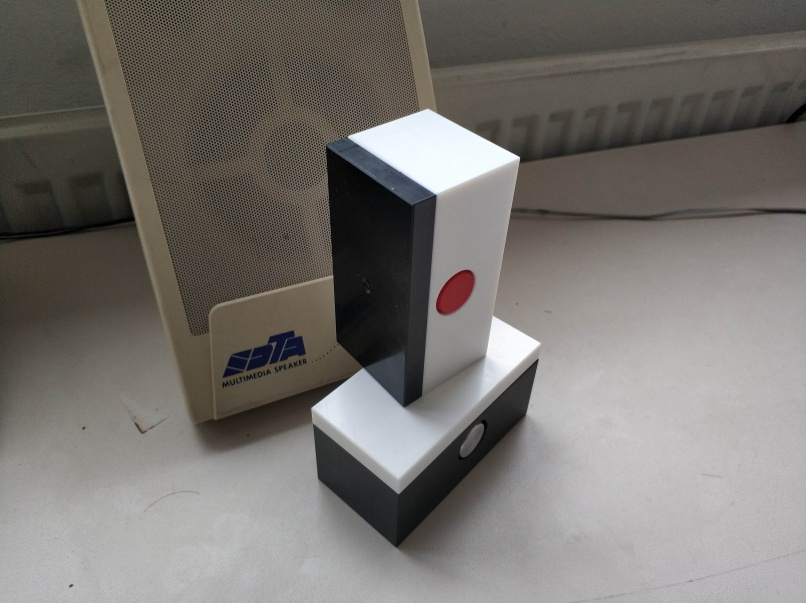black+white+red: (323, 108, 523, 411)
white+black+silver: (310, 313, 544, 552)
